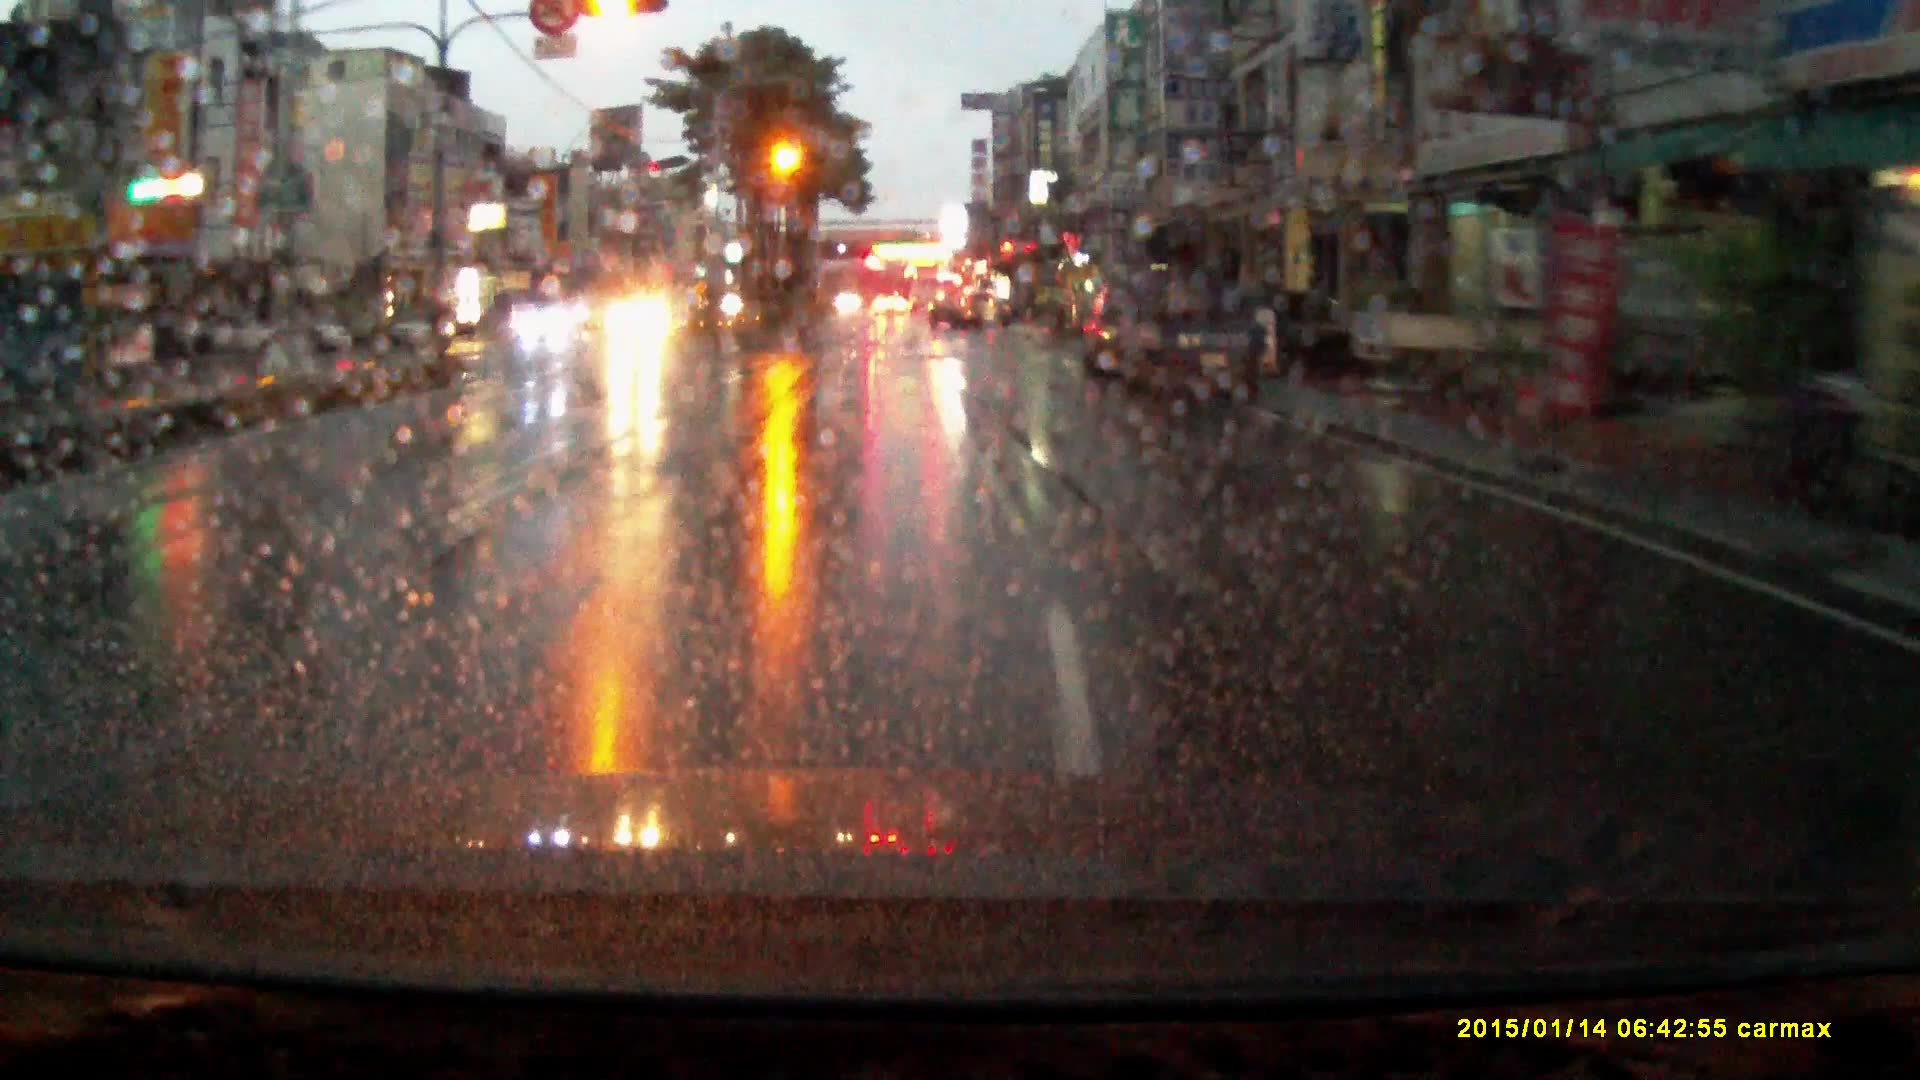vehicle: (1117, 262, 1266, 397), (1352, 309, 1561, 386), (181, 311, 301, 359), (601, 289, 676, 344), (1084, 277, 1124, 378), (280, 311, 357, 353), (928, 284, 998, 328), (392, 301, 455, 347), (520, 301, 582, 343), (911, 262, 945, 306), (873, 291, 911, 316)
